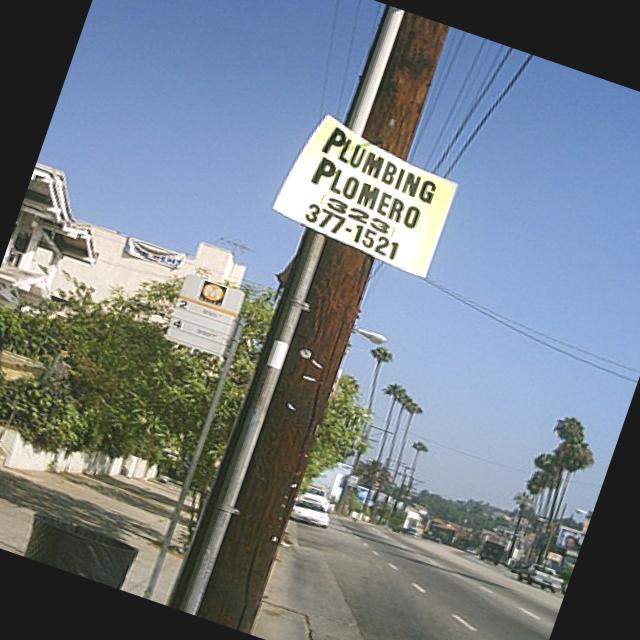Vehicle: (514, 556, 568, 596), (288, 494, 334, 530), (477, 538, 505, 566), (300, 491, 330, 510), (558, 575, 570, 596), (406, 526, 421, 538)
